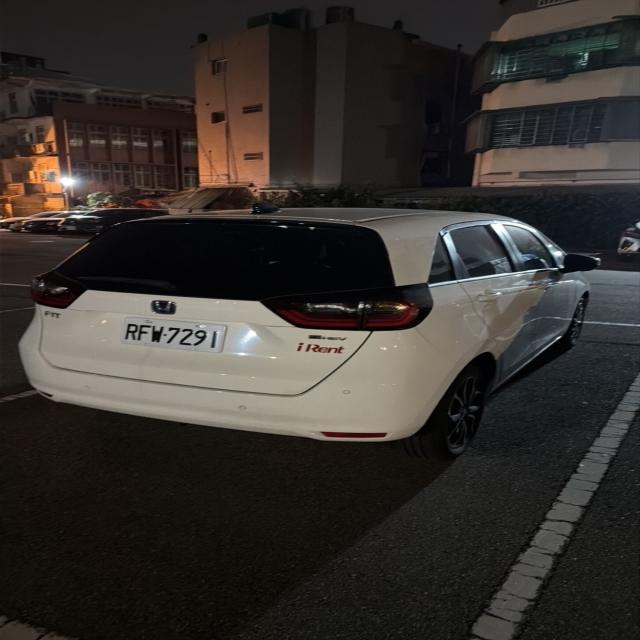license plate: (124, 317, 226, 352)
wheel: (398, 365, 486, 460)
